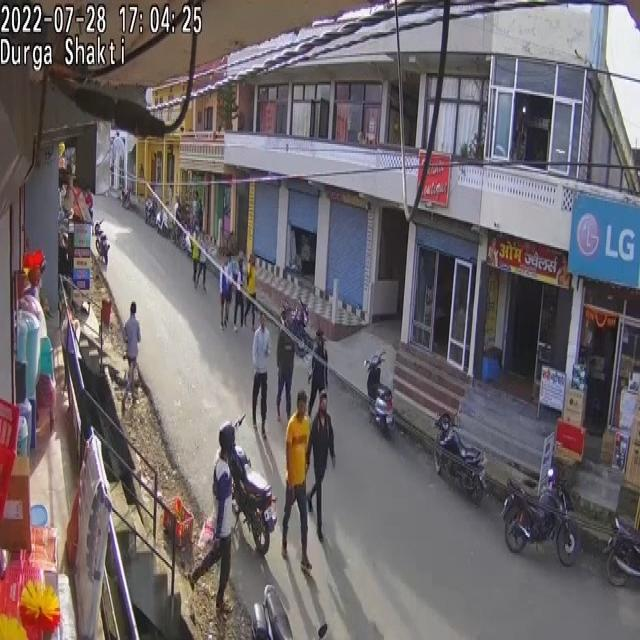non-fight: (147, 190, 257, 324), (188, 423, 240, 613), (282, 390, 312, 568), (305, 392, 336, 542), (220, 245, 258, 333), (251, 312, 271, 428), (122, 303, 141, 408), (276, 321, 295, 422), (307, 330, 328, 416), (212, 454, 233, 538), (192, 231, 204, 290), (192, 193, 202, 233), (173, 196, 180, 220)
